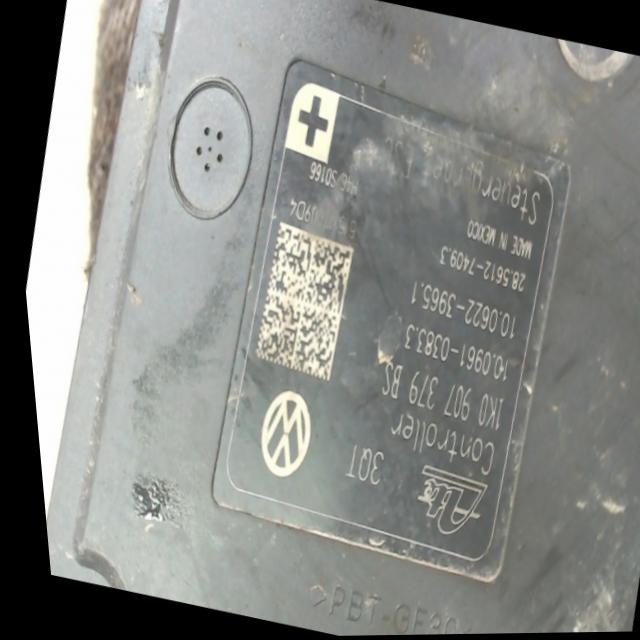datamatrix: (236, 219, 362, 385)
